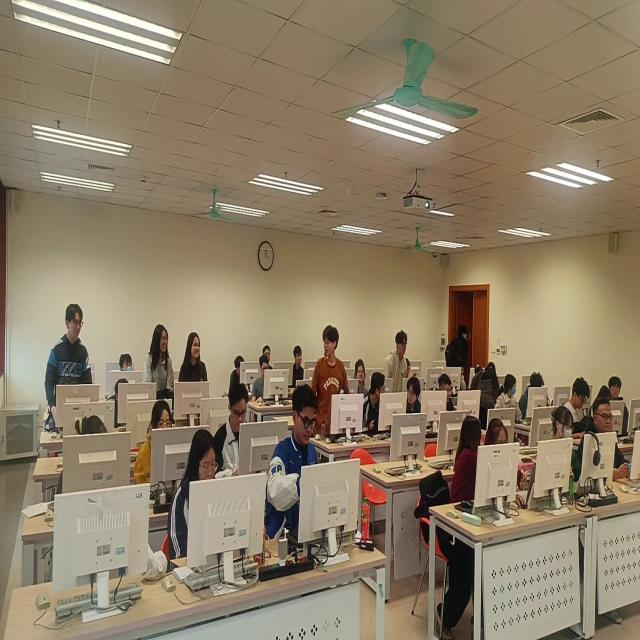raise_head: (585, 395, 640, 492), (606, 372, 627, 411), (115, 350, 138, 382), (391, 328, 411, 363), (291, 345, 308, 382), (350, 363, 370, 394), (264, 344, 274, 365)
stand: (45, 305, 91, 436), (311, 327, 346, 442), (146, 322, 174, 424), (181, 328, 210, 426), (449, 321, 469, 398), (390, 332, 410, 405)
using_computer: (169, 430, 241, 561), (268, 390, 327, 548), (56, 412, 128, 503), (482, 415, 543, 514), (215, 387, 264, 489), (136, 398, 186, 494), (545, 404, 593, 501), (106, 373, 141, 429), (251, 355, 285, 411), (434, 375, 469, 427), (521, 370, 551, 422), (227, 353, 257, 398), (568, 375, 591, 428), (455, 364, 476, 401)
